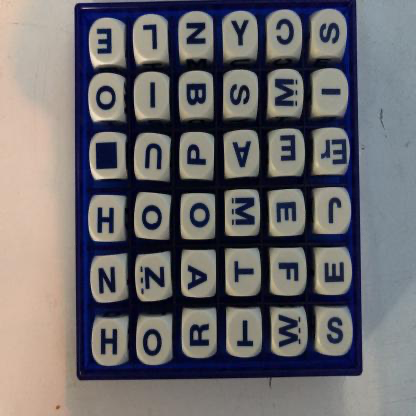a: (224, 133, 260, 178), (184, 252, 218, 298)
b: (179, 75, 217, 117)
c: (267, 11, 303, 55)
e: (270, 191, 307, 237), (91, 22, 127, 67), (317, 249, 352, 295), (271, 131, 305, 176)
er: (316, 131, 351, 176)
f: (271, 250, 306, 296)
h: (91, 196, 127, 242), (94, 318, 128, 364)
i: (134, 75, 172, 119), (315, 70, 350, 115)
j: (315, 190, 349, 235)
l: (136, 19, 170, 64)
m: (270, 72, 304, 116), (226, 193, 260, 236)
n: (91, 257, 129, 303), (179, 14, 217, 58)
o: (138, 317, 172, 367), (137, 195, 171, 242), (91, 77, 128, 120), (181, 196, 217, 238)
p: (182, 136, 217, 178)
r: (184, 310, 218, 358)
s: (318, 310, 355, 356), (224, 73, 261, 117), (312, 11, 348, 56)
t: (228, 310, 262, 357), (226, 250, 261, 295)
u: (134, 133, 173, 180)
w: (271, 310, 309, 357)
wild: (91, 134, 127, 177)
y: (223, 14, 260, 57)
z: (138, 256, 170, 302)
